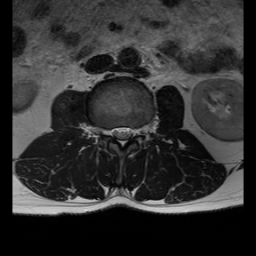CCS_normal: (119, 120, 125, 152)
LFS_normal: (134, 122, 141, 143)
LLS_normal: (125, 122, 133, 144)
RFS_normal: (104, 122, 112, 142)
RLS_normal: (112, 122, 119, 144)
